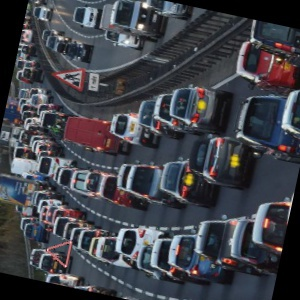triangle: (42, 239, 74, 271), (51, 67, 86, 93)
